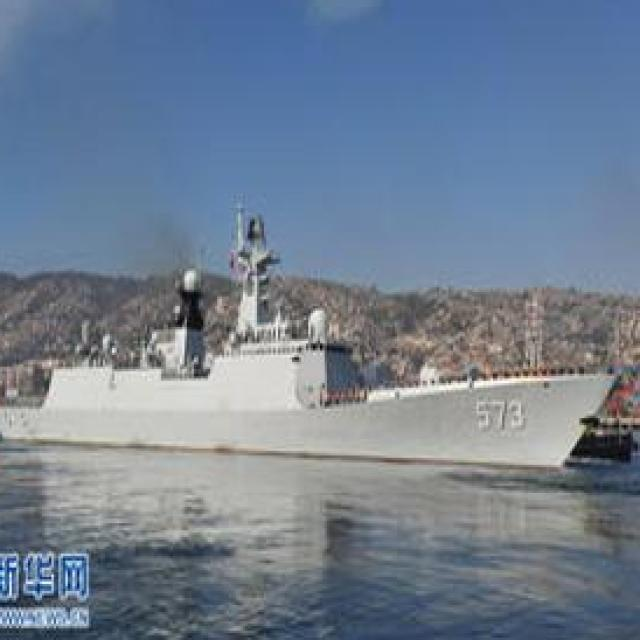navalvessels: (0, 217, 626, 488)
